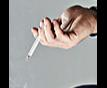Cigarette: (26, 35, 40, 61)
